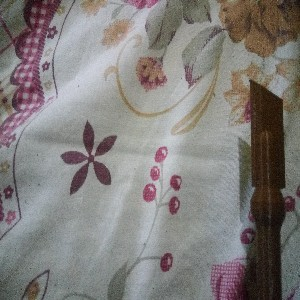cutter: (248, 77, 286, 300)
